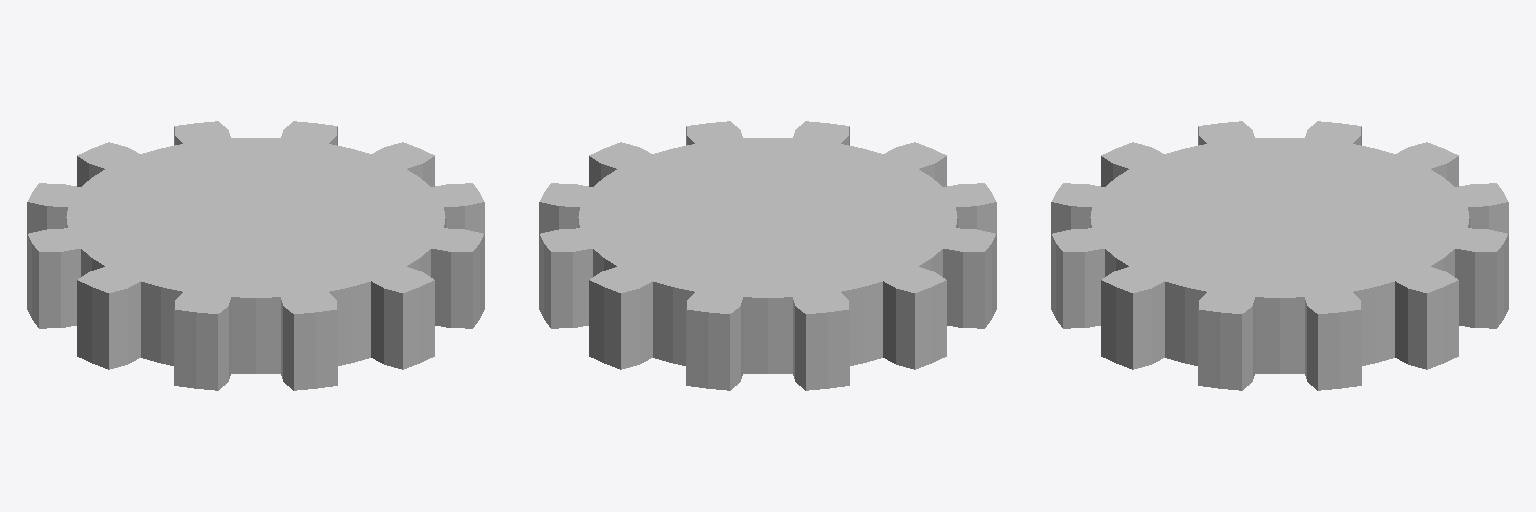
Rendered from gear-solid.obj.
3 renders of one model, left to right at view 1: azimuth 30°, elevation 25°; view 2: azimuth 150°, elevation 25°; view 3: azimuth 270°, elevation 25°, orthographic.
Size of the model in its own units: 2.17 by 0.4 by 2.17.